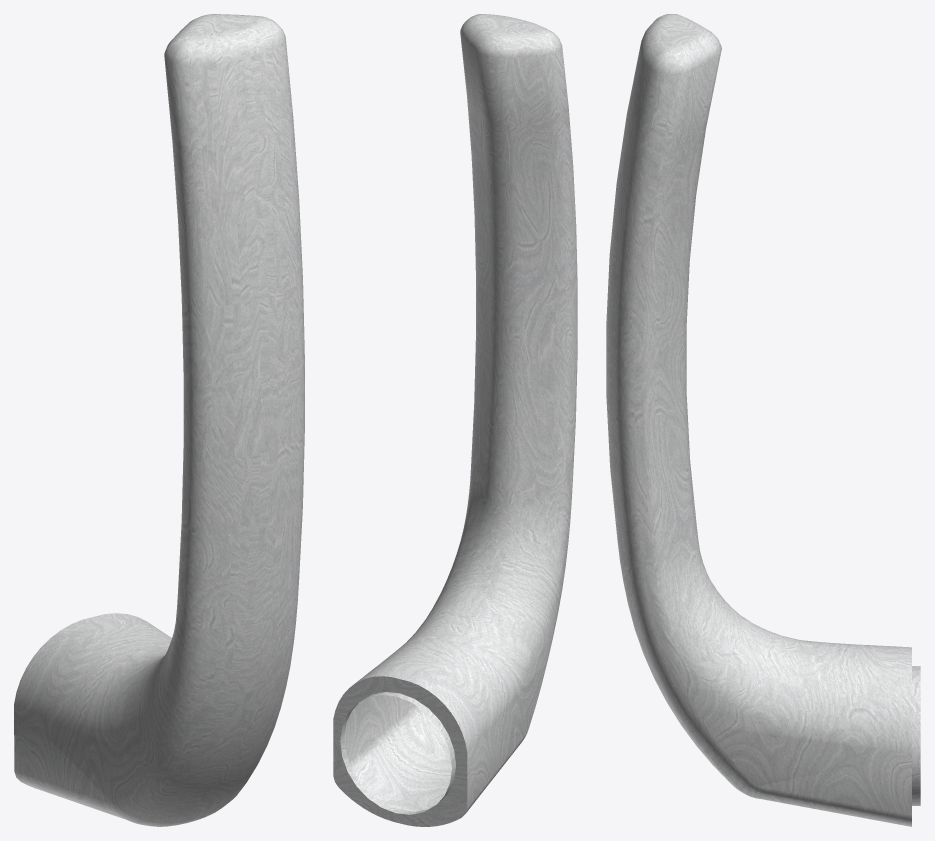
The model's file is 9969508-handle.dae.
3 views of the same model, side by side, from view 1: azimuth 30°, elevation 25°; view 2: azimuth 150°, elevation 25°; view 3: azimuth 270°, elevation 25° (orthographic). The views are drawn at different scales.
Parts seen in each view (by area): view 1: Handle.002; view 2: Handle.002; view 3: Handle.002.
Boxes of the visible parts, box(x1,y1,x2,y2) form: Handle.002: box(14, 14, 304, 826); Handle.002: box(333, 14, 577, 826); Handle.002: box(606, 14, 920, 826).
Bounding box in the file's own units: 0.024 × 0.0449 × 0.1231.
2 materials, 1 textured.
